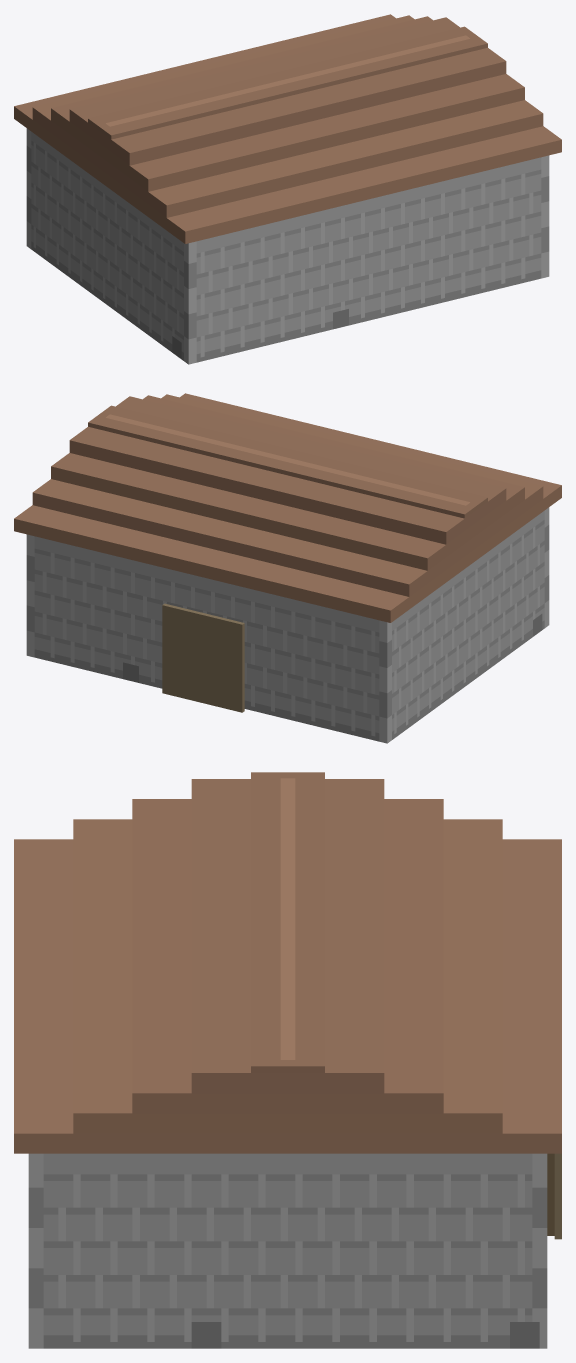
File: establo_comunal_04.glb
3 views of the same model, one above another, from view 1: azimuth 30°, elevation 25°; view 2: azimuth 150°, elevation 25°; view 3: azimuth 270°, elevation 25° (orthographic). The views are drawn at different scales.
Parts seen in each view (by area): view 1: establo_comunal_04; view 2: establo_comunal_04; view 3: establo_comunal_04.
Part boxes in pixels (box(x1,y1,x2,y2)): establo_comunal_04: box(14, 14, 561, 364); establo_comunal_04: box(14, 393, 561, 743); establo_comunal_04: box(14, 772, 561, 1348).
Bounding box in the file's own units: 9.4 × 4.3 × 7.4.
